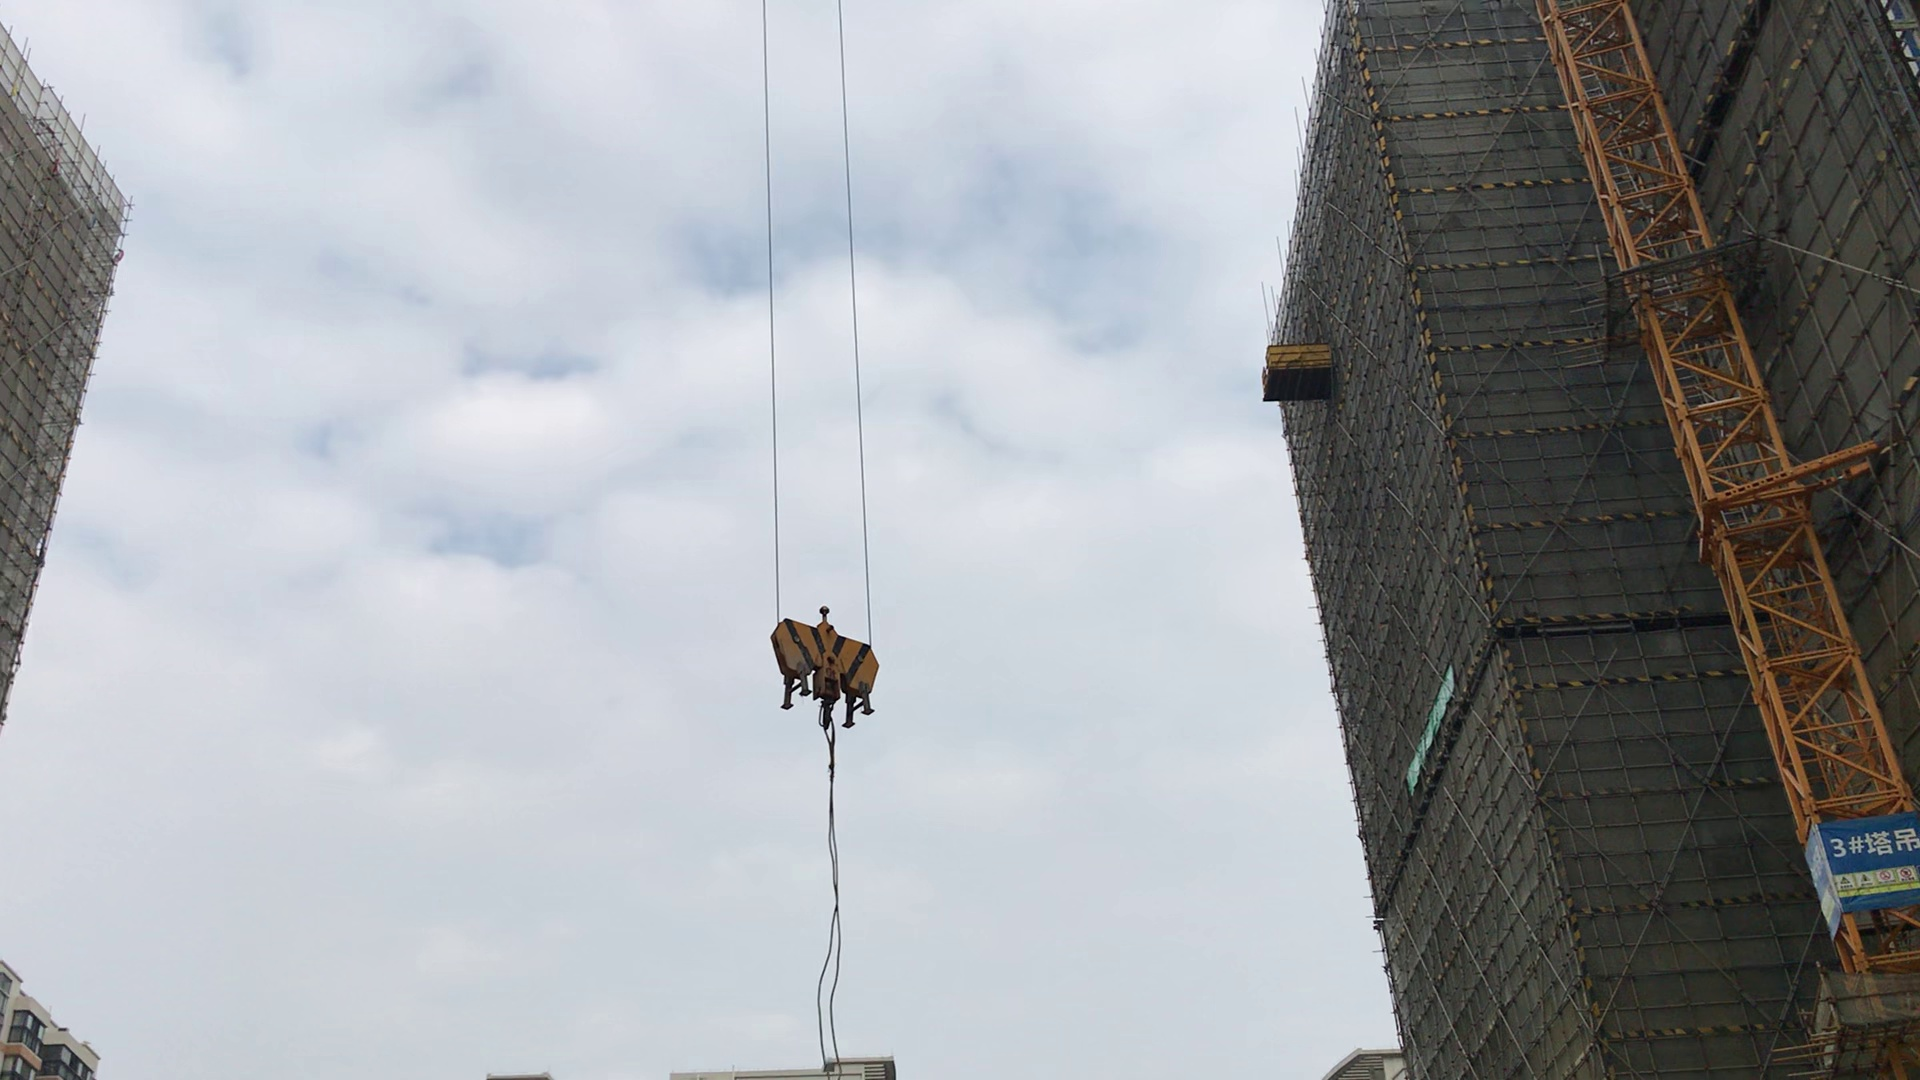hook: (770, 603, 882, 731)
